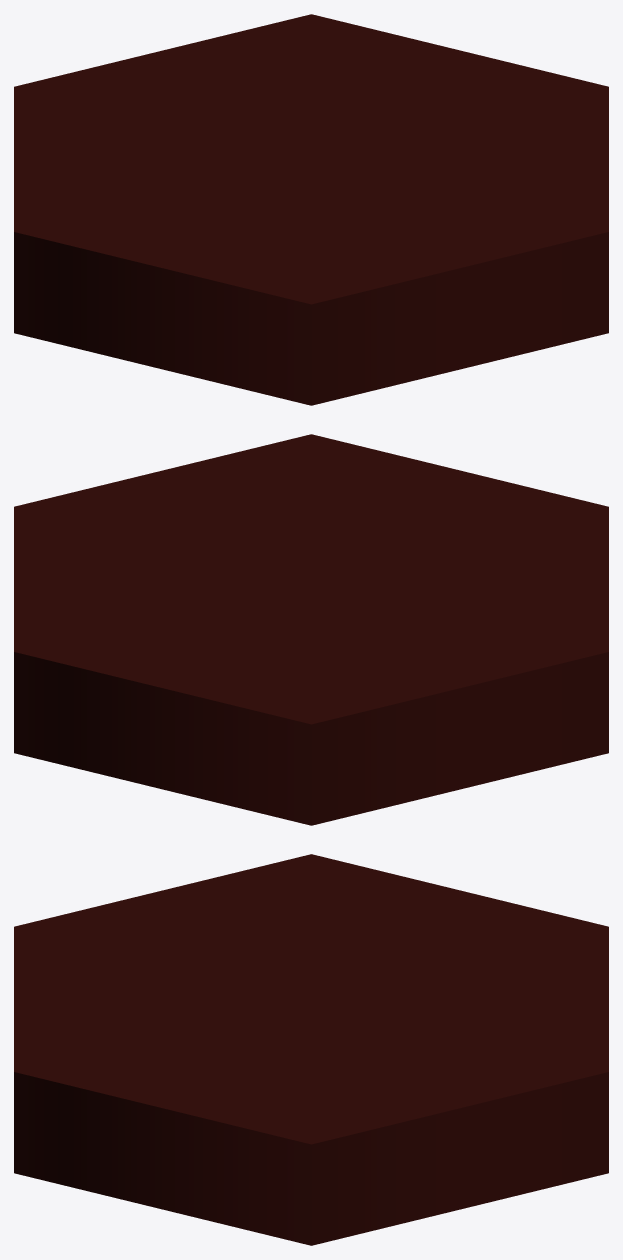
Rendered from cloud-run.gltf.
3 views of the same model, one above another, from view 1: azimuth 30°, elevation 25°; view 2: azimuth 150°, elevation 25°; view 3: azimuth 270°, elevation 25° (orthographic).
Visible parts, largest first — view 1: Cannon; view 2: Cannon; view 3: Cannon.
Boxes of the visible parts, <box> form: Cannon: <box>14,14,608,405</box>; Cannon: <box>14,434,608,825</box>; Cannon: <box>14,854,608,1245</box>.
Bounding box in the file's own units: 0.7377 × 0.12 × 0.6387.
